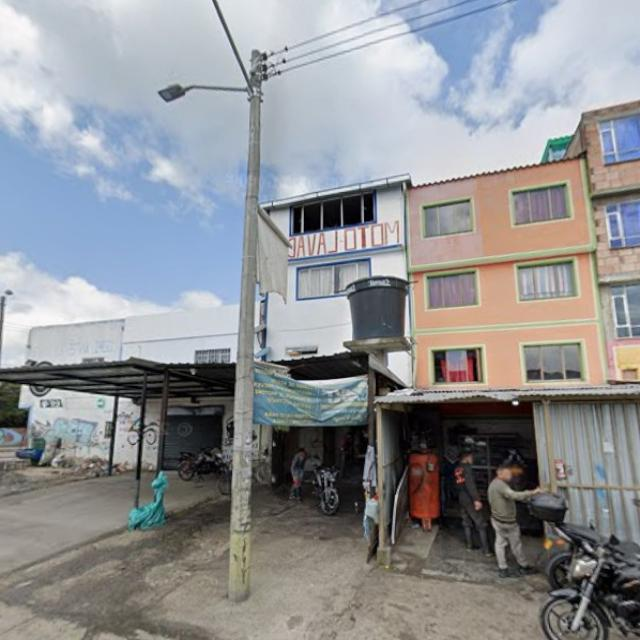Fachada: (1, 305, 238, 505), (407, 156, 610, 389), (263, 176, 412, 382), (567, 101, 640, 381)
Poste: (159, 0, 269, 601)
